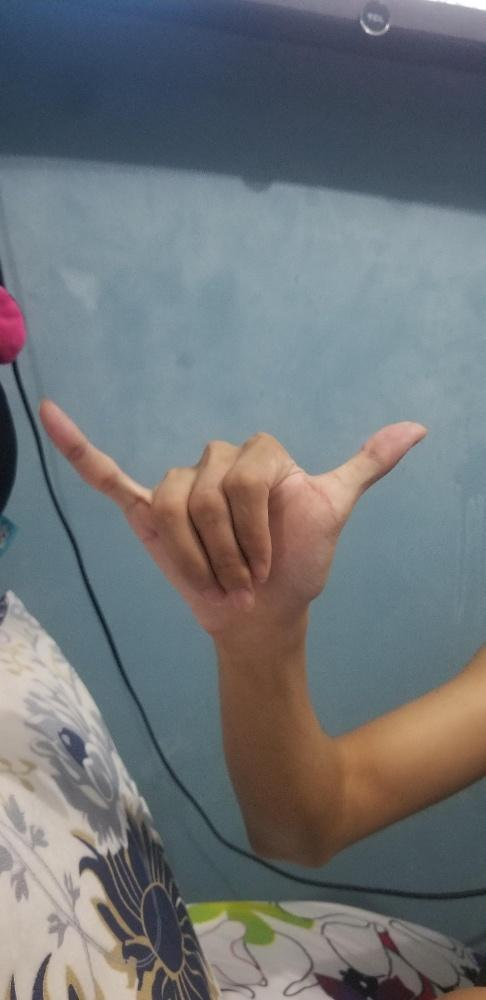y: (35, 395, 431, 641)
